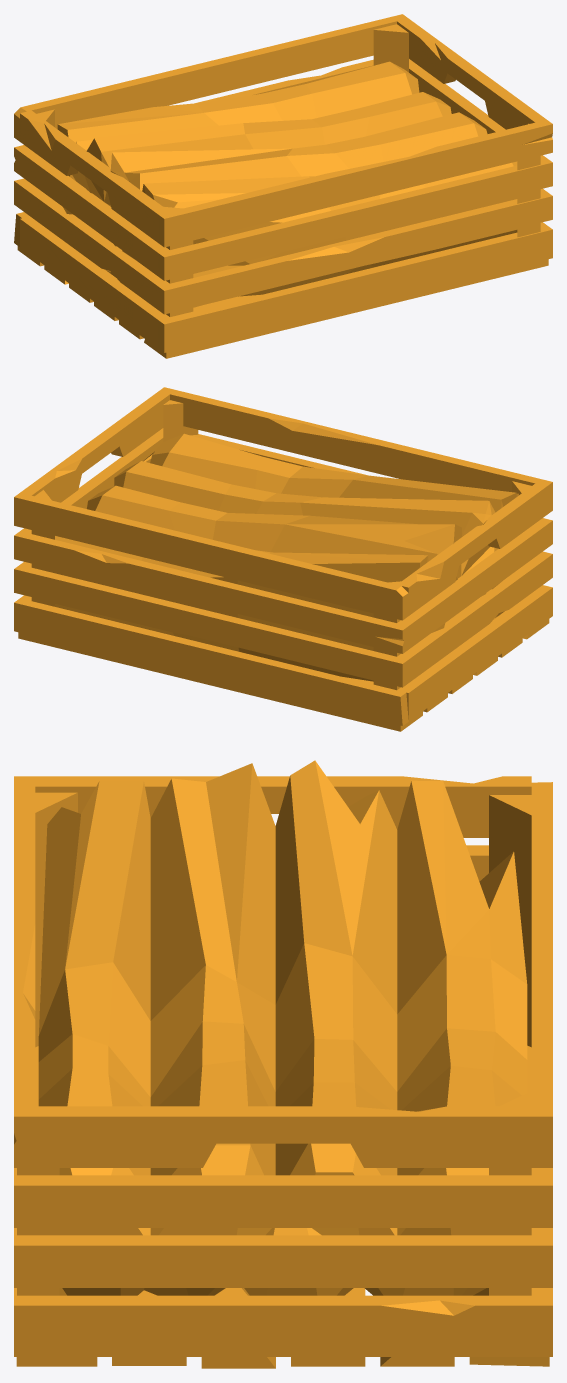
Rendered from SM_Crate_Wood_Medium_Leek_B.fbx.
3 renders of one model, top to bottom at view 1: azimuth 30°, elevation 25°; view 2: azimuth 150°, elevation 25°; view 3: azimuth 270°, elevation 25°, orthographic. The views are drawn at different scales.
Visible parts, largest first — view 1: crate-wood-medium-leek-b; view 2: crate-wood-medium-leek-b; view 3: crate-wood-medium-leek-b.
Boxes of the visible parts, x1,y1,x2,y2 form: crate-wood-medium-leek-b: (14, 14, 552, 358); crate-wood-medium-leek-b: (14, 387, 552, 731); crate-wood-medium-leek-b: (14, 760, 552, 1368).
Size of the model in its own units: 0.6067 by 0.2342 by 0.4063.
